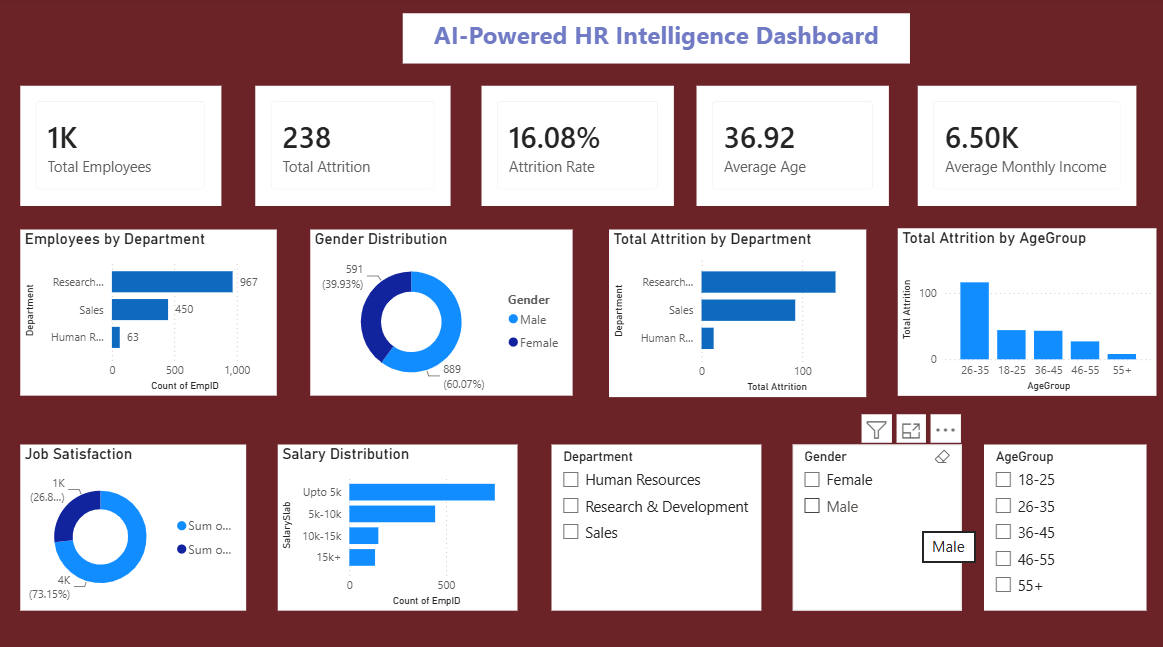

The page's visual inventory and layout, read from the dashboard file:
{"tool":"powerbi","page":{"name":"Executive Dashboard","canvas":[1280,720],"ordinal":0},"visuals":[{"type":"cardVisual","fields":{"Data":["HR_Analytics.Total Employees"]},"box":[23.3,97.4,220.9,131.7],"z":0},{"type":"cardVisual","fields":{"Data":["HR_Analytics.Total Attrition"]},"box":[281.3,97.4,214.1,131.7],"z":1000},{"type":"cardVisual","fields":{"Data":["HR_Analytics.Attrition Rate"]},"box":[529.7,97.4,211.3,131.7],"z":2000},{"type":"cardVisual","fields":{"Data":["HR_Analytics.Average Age"]},"box":[765.7,97.4,211.3,131.7],"z":3000},{"type":"textbox","box":[443.2,17.8,557.1,54.9],"z":4000},{"type":"clusteredBarChart","title":"Employees by Department","fields":{"Category":["HR_Analytics.Department"],"Y":["CountNonNull(HR_Analytics.EmpID)"]},"box":[23.3,255.2,281.3,182.5],"z":5000},{"type":"cardVisual","fields":{"Data":["HR_Analytics.Average Monthly Income"]},"box":[1008.6,97.4,240.1,131.7],"z":6000},{"type":"donutChart","title":"Gender Distribution","fields":{"Category":["HR_Analytics.Gender"],"Y":["CountNonNull(HR_Analytics.EmpID)"]},"box":[341.7,255.2,288.2,182.5],"z":7000},{"type":"clusteredBarChart","fields":{"Category":["HR_Analytics.Department"],"Y":["HR_Analytics.Total Attrition"]},"box":[669.6,255.2,282.7,183.9],"z":8000},{"type":"columnChart","fields":{"Category":["HR_Analytics.AgeGroup"],"Y":["HR_Analytics.Total Attrition"]},"box":[986.6,253.9,284,183.9],"z":9000},{"type":"donutChart","title":"Job Satisfaction","fields":{"Y":["Sum(HR_Analytics.JobSatisfaction)","Sum(HR_Analytics.EmployeeCount)"]},"box":[23.3,491.3,248.4,182.5],"z":10000},{"type":"clusteredBarChart","title":"Salary Distribution","fields":{"Category":["HR_Analytics.SalarySlab"],"Y":["CountNonNull(HR_Analytics.EmpID)"]},"box":[306,491.3,263.5,182.5],"z":11000},{"type":"slicer","fields":{"Values":["HR_Analytics.Department"]},"box":[606.5,491.3,230.5,182.5],"z":12000},{"type":"slicer","fields":{"Values":["HR_Analytics.Gender"]},"box":[871.4,491.3,185.2,182.5],"z":13000},{"type":"slicer","fields":{"Values":["HR_Analytics.AgeGroup"]},"box":[1081.3,491.3,178.4,182.5],"z":14000}]}

Visuals, with their boxes in screenshot pixels (x1, y1, x2, y2), scaled from the page's 1280x720 canvas onto the 1163x647 screenshot:
cardVisual - HR_Analytics.Total Employees: Rect(21, 88, 222, 206)
cardVisual - HR_Analytics.Total Attrition: Rect(256, 88, 450, 206)
cardVisual - HR_Analytics.Attrition Rate: Rect(481, 88, 673, 206)
cardVisual - HR_Analytics.Average Age: Rect(696, 88, 888, 206)
textbox: Rect(403, 16, 909, 65)
"Employees by Department" clusteredBarChart: Rect(21, 229, 277, 393)
cardVisual - HR_Analytics.Average Monthly Income: Rect(916, 88, 1135, 206)
"Gender Distribution" donutChart: Rect(310, 229, 572, 393)
clusteredBarChart - HR_Analytics.Department x HR_Analytics.Total Attrition: Rect(608, 229, 865, 395)
columnChart - HR_Analytics.AgeGroup x HR_Analytics.Total Attrition: Rect(896, 228, 1154, 393)
"Job Satisfaction" donutChart: Rect(21, 441, 247, 605)
"Salary Distribution" clusteredBarChart: Rect(278, 441, 517, 605)
slicer - HR_Analytics.Department: Rect(551, 441, 760, 605)
slicer - HR_Analytics.Gender: Rect(792, 441, 960, 605)
slicer - HR_Analytics.AgeGroup: Rect(982, 441, 1145, 605)
